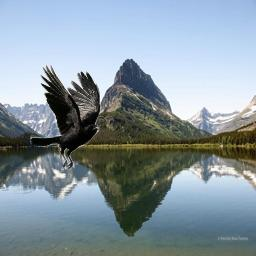Crow: (30, 64, 102, 172)
